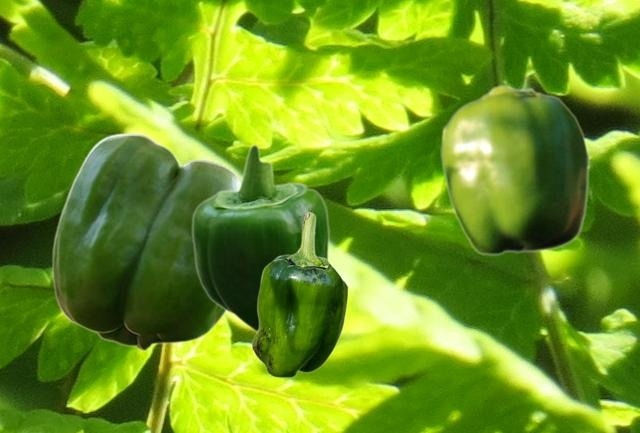bell_pepper: (51, 132, 240, 350), (190, 143, 329, 332), (440, 84, 589, 255), (251, 211, 347, 377)
